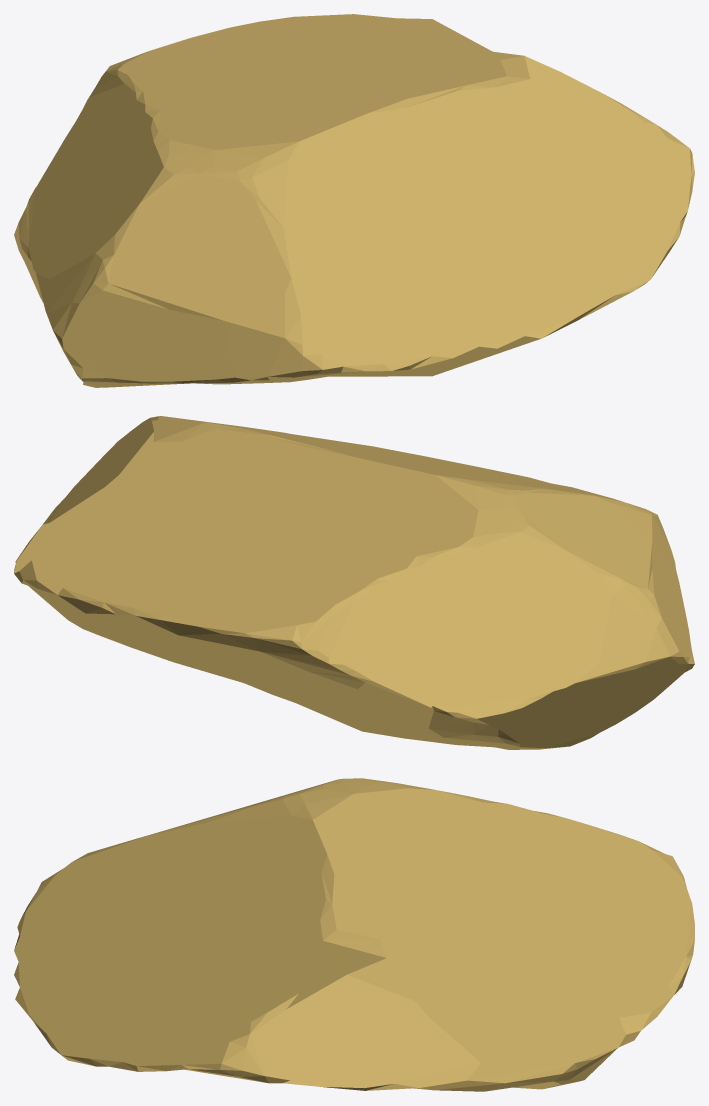
File: KumTası.fbx
The picture shows the model from 3 angles, top to bottom: view 1: azimuth 30°, elevation 25°; view 2: azimuth 150°, elevation 25°; view 3: azimuth 270°, elevation 25°; orthographic projection. The views are drawn at different scales.
Parts seen in each view (by area): view 1: Cube; view 2: Cube; view 3: Cube.
Boxes of the visible parts, <box> form: Cube: <box>14,14,694,387</box>; Cube: <box>14,416,694,749</box>; Cube: <box>14,778,694,1091</box>.
Bounding box in the file's own units: 66.92 × 24.18 × 61.63.
